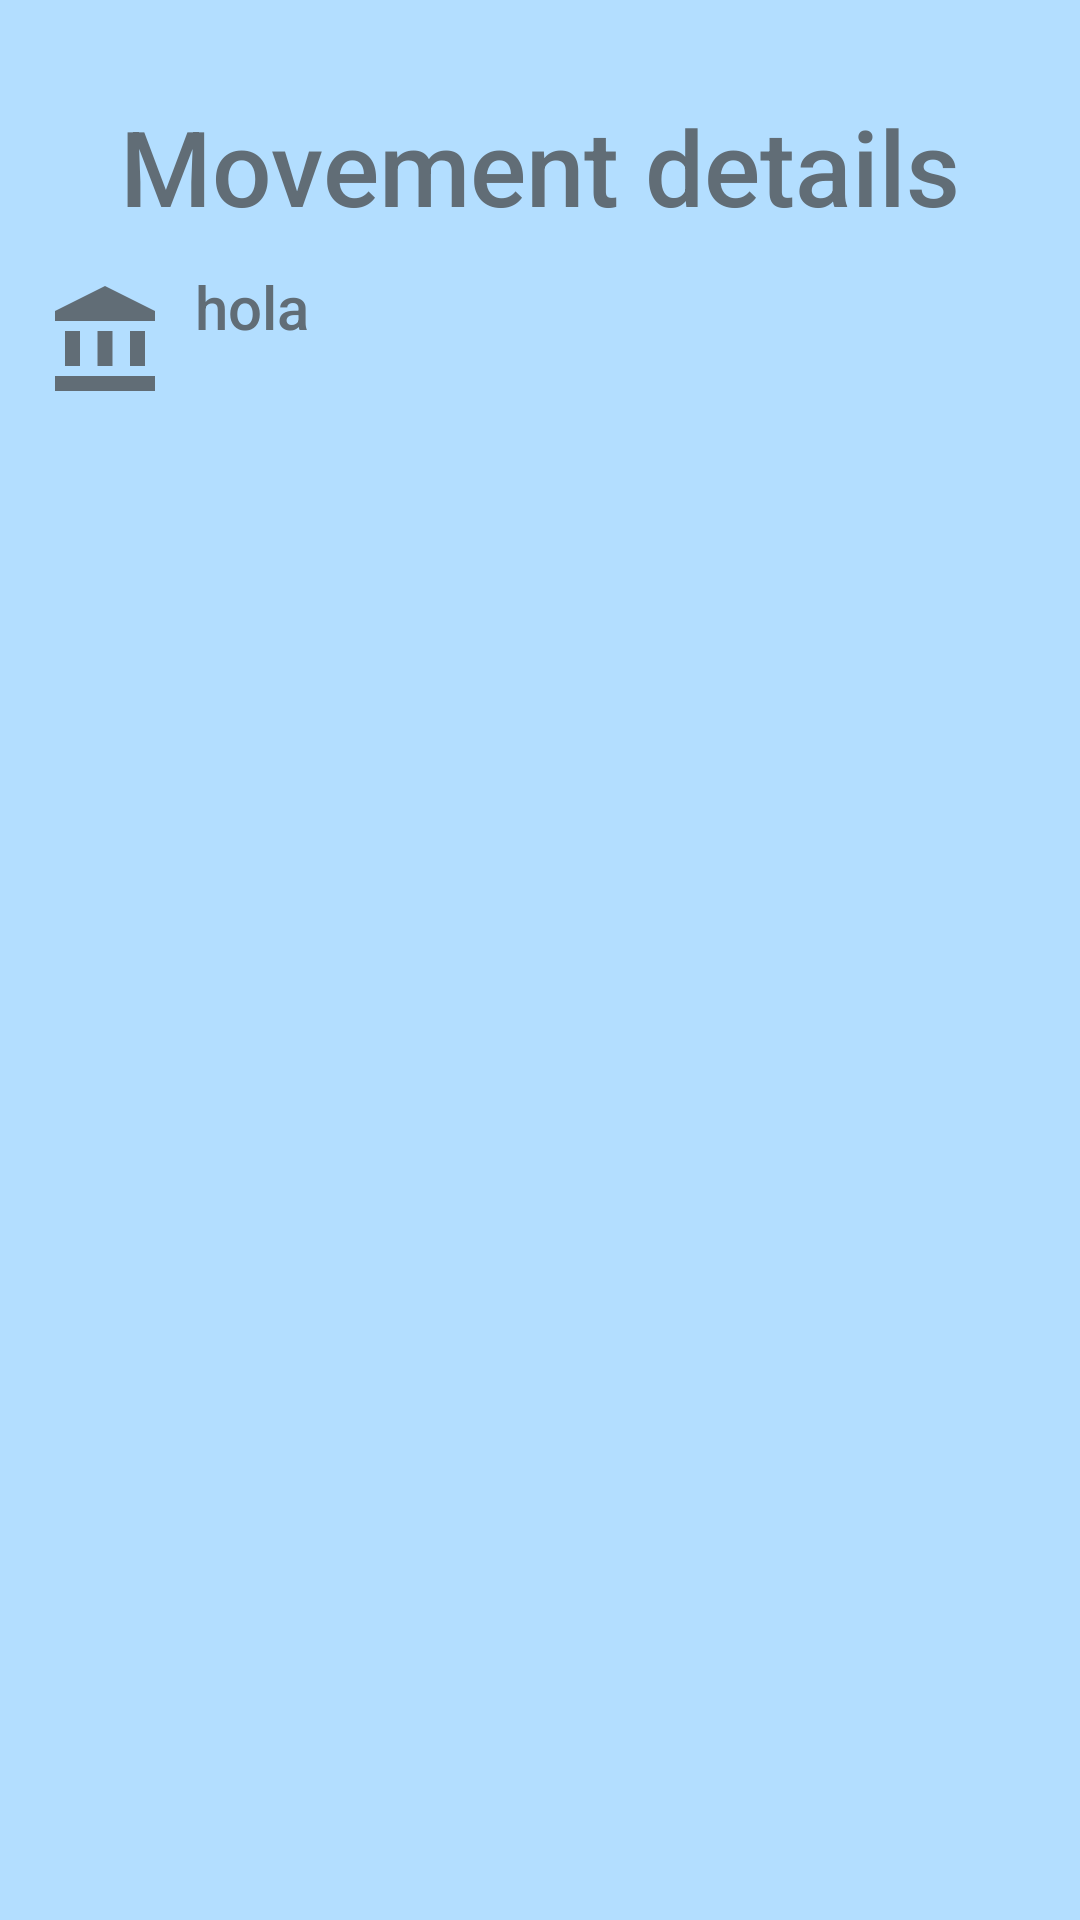

Screen size 1080x1920. Icon name, then its center in pixels as (x,y):
banco: (105,338)
